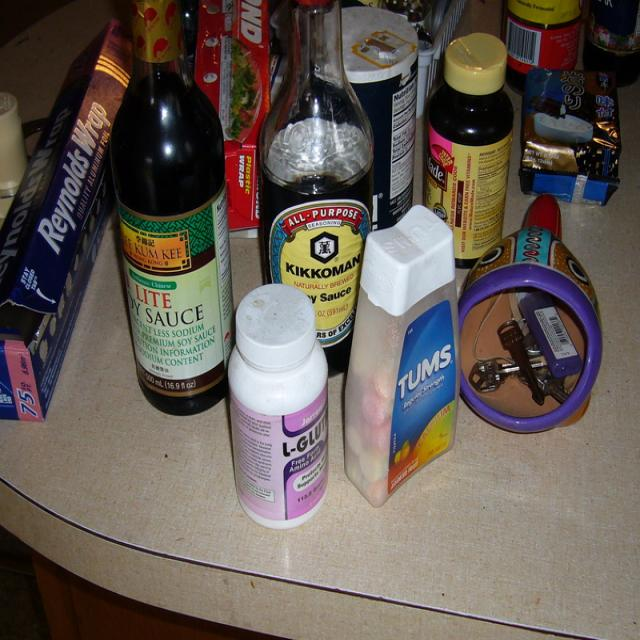container -bottle - jar: (111, 0, 233, 414), (260, 0, 372, 371), (345, 205, 459, 506), (229, 284, 327, 529), (425, 34, 513, 267), (504, 0, 583, 92), (583, 0, 639, 86)
